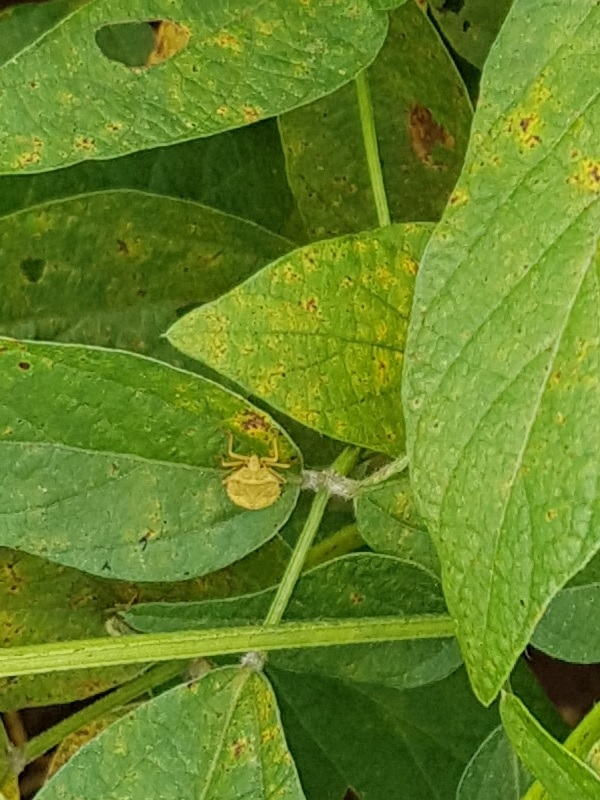Euschistus_heros_ninfa: (200, 425, 302, 529)
